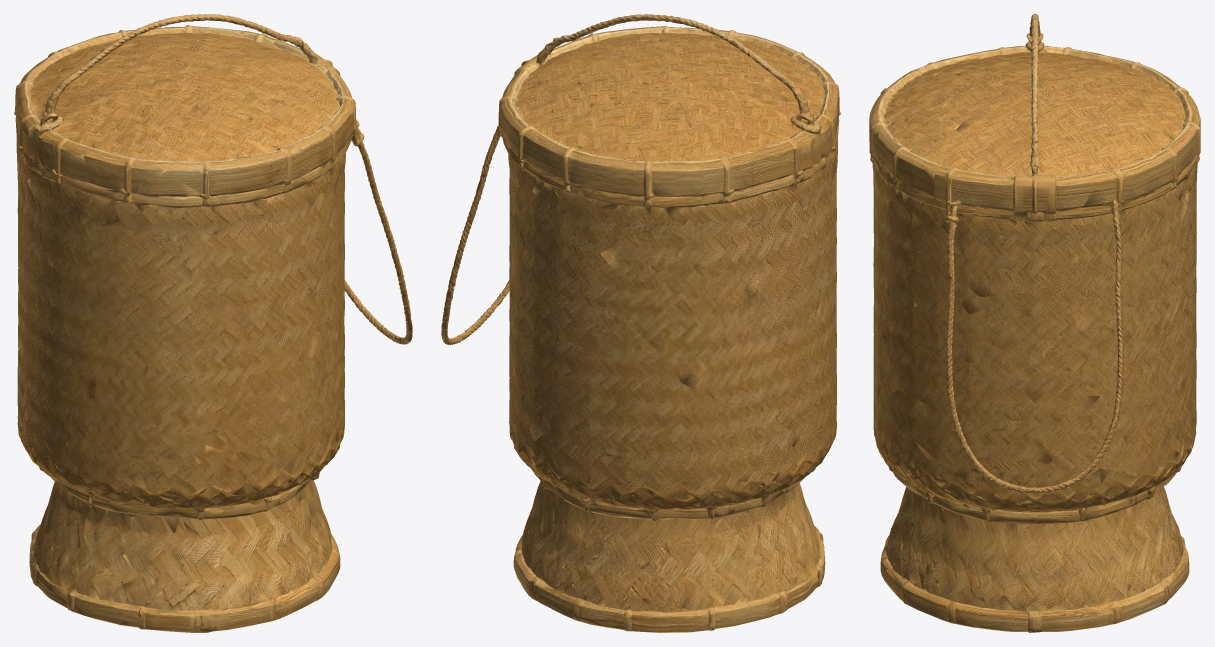
The model's file is sticky-rice-basket.glb.
3 views of the same model, side by side, from view 1: azimuth 30°, elevation 25°; view 2: azimuth 150°, elevation 25°; view 3: azimuth 270°, elevation 25° (orthographic). The views are drawn at different scales.
Parts seen in each view (by area): view 1: Mesh_0; view 2: Mesh_0; view 3: Mesh_0.
Part boxes in pixels (x1=…): Mesh_0: x1=14, y1=14, x2=412, y2=632; Mesh_0: x1=441, y1=14, x2=840, y2=632; Mesh_0: x1=869, y1=14, x2=1200, y2=632.
Size of the model in its own units: 0.6724 by 1 by 0.5588.
Materials: 1 (1 with a texture image).
